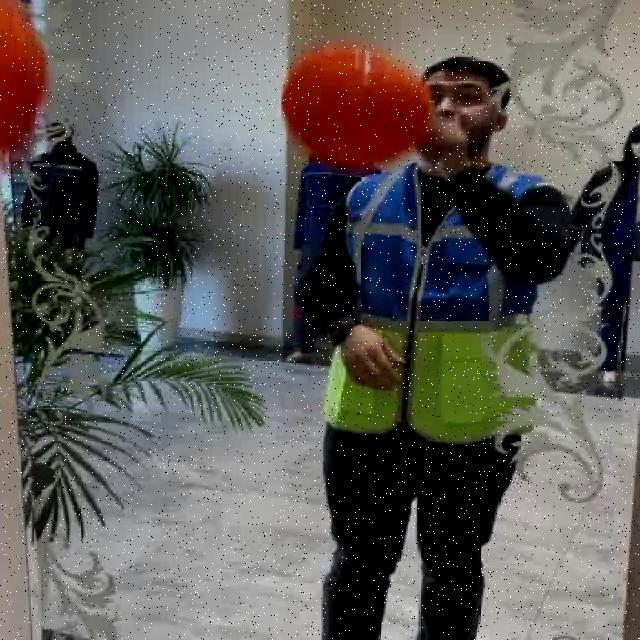Helmet: (282, 42, 436, 166)
Mask: (322, 162, 552, 448)
